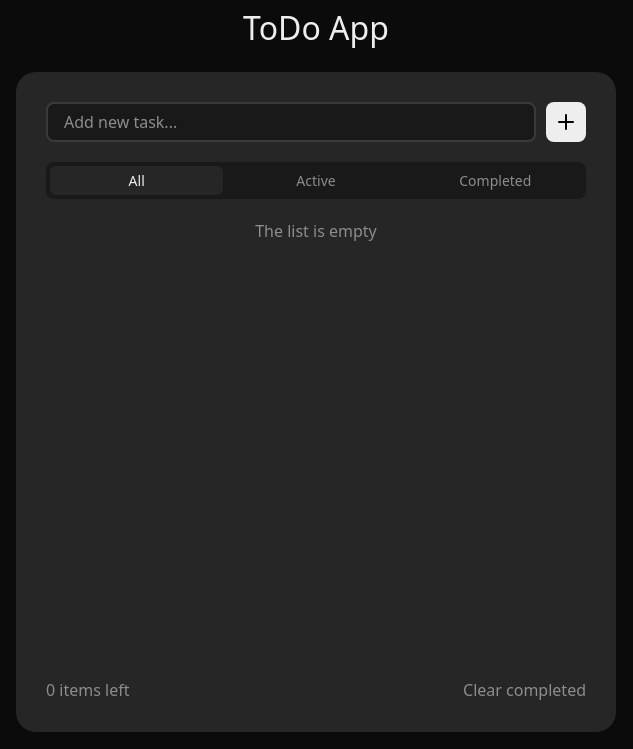
Todo App › переключение completed и фильтры вкладок
Type "Купить молоко" into the field with placeholder "Add new task..." at (291, 122), box [46, 102, 536, 142]
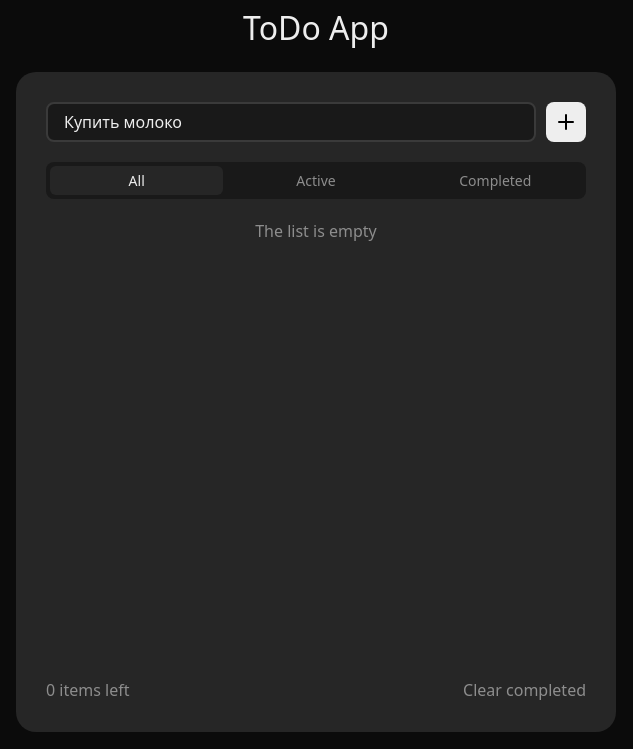
Press Enter in the field with placeholder "Add new task...", box [46, 102, 536, 142]
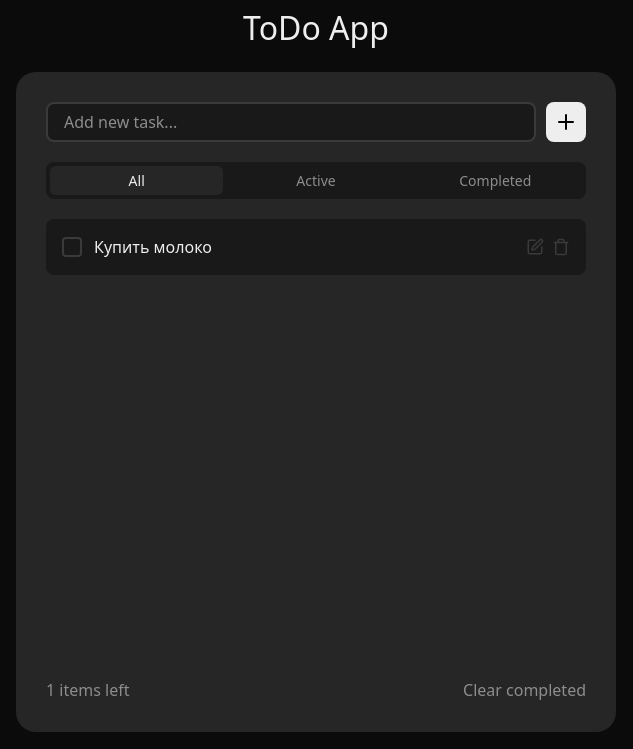
Click the checkbox at (72, 247), box [62, 237, 82, 257]
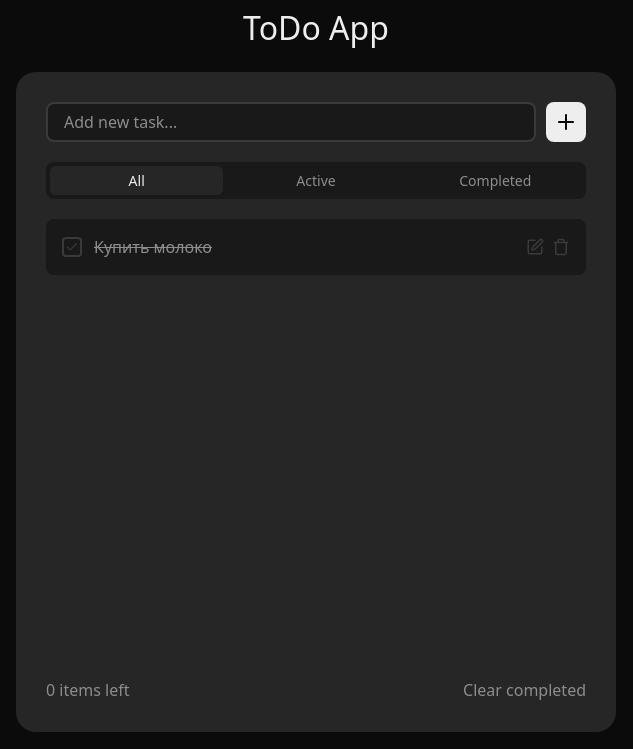
Expected: the text "Купить молоко" has class "line-through", [94, 235, 212, 259]
Click the button "Completed" at (495, 180), box [409, 166, 582, 195]
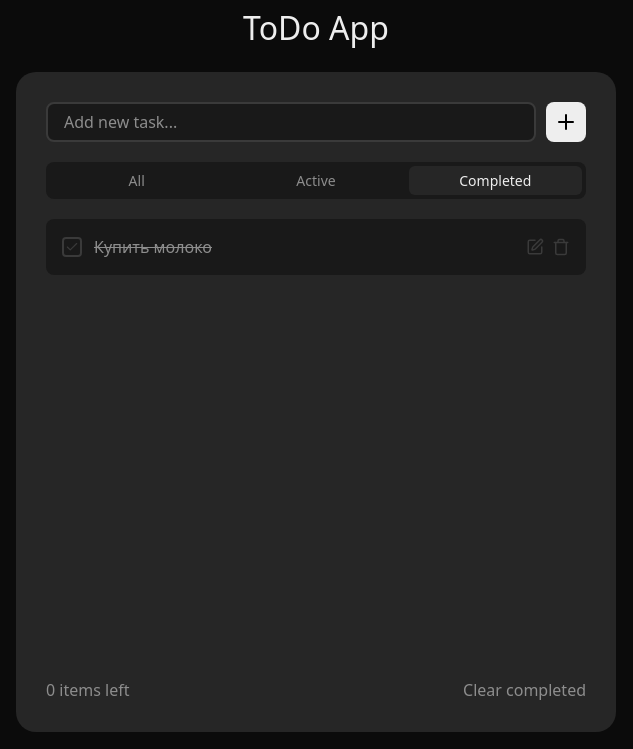
Expected: the text "Купить молоко" is shown, [94, 235, 212, 259]
Click the button "Active" at (316, 180), box [229, 166, 403, 195]
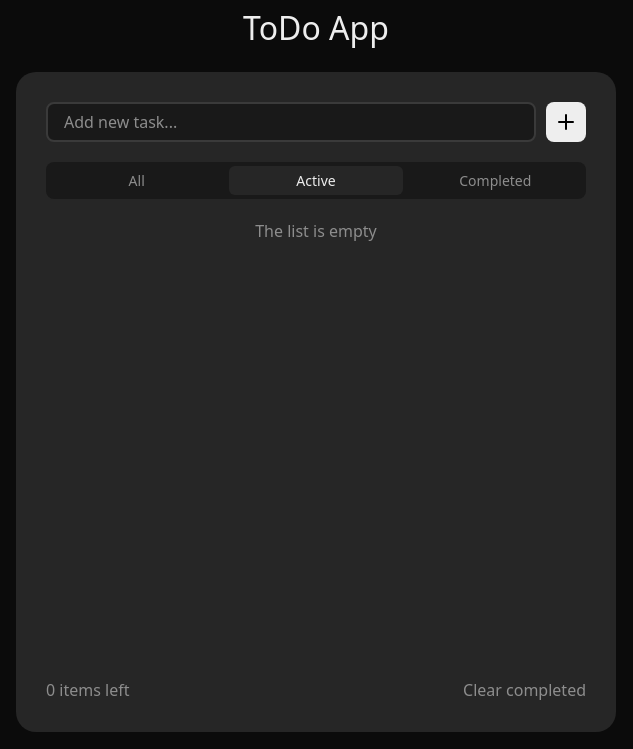
Expected: the text "Купить молоко" is gone
